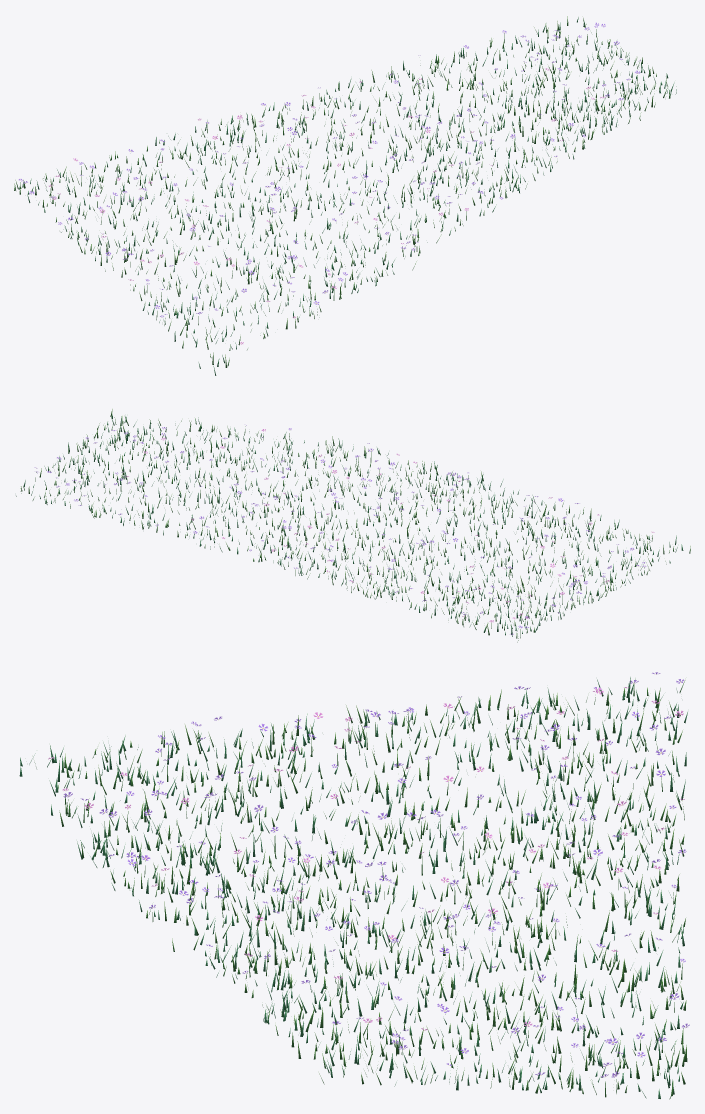
3 views of the same model, one above another, from view 1: azimuth 30°, elevation 25°; view 2: azimuth 150°, elevation 25°; view 3: azimuth 270°, elevation 25° (orthographic). The views are drawn at different scales.
Parts seen in each view (by area): view 1: gc_5; view 2: gc_5; view 3: gc_5.
Part boxes in pixels (x1,y1,x2,y2): gc_5: (14, 16, 676, 375); gc_5: (16, 409, 690, 642); gc_5: (19, 672, 689, 1099).
Size of the model in its own units: 18.09 by 2.77 by 11.2.
1 material, 1 textured.
